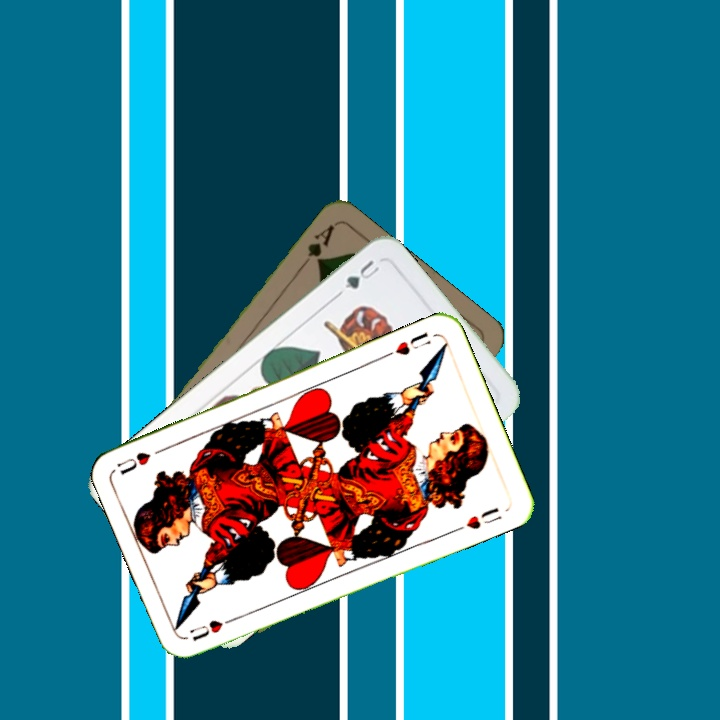GA: (296, 220, 337, 271)
GU: (333, 255, 382, 298)
HU: (186, 613, 241, 644), (381, 328, 434, 360)
